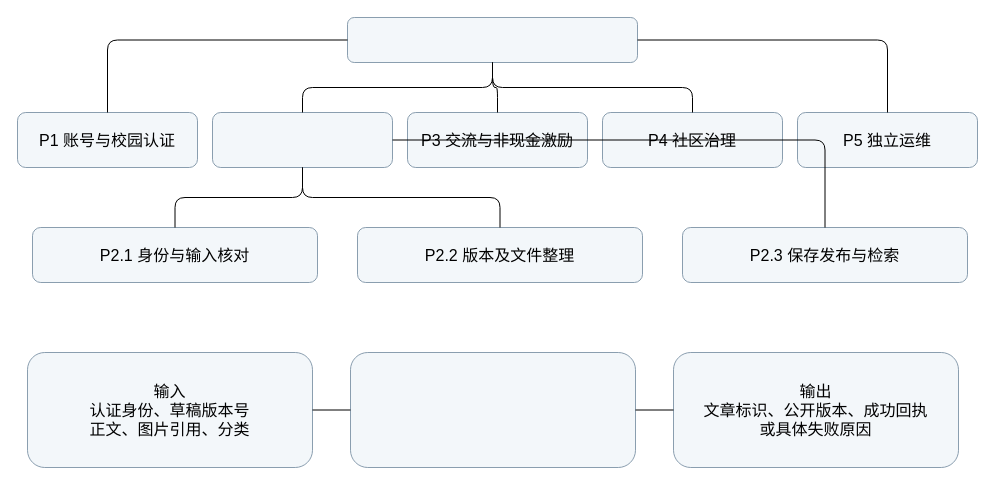
The diagram is 995 pixels wide and 485 high, and some of its shapes have lost their labels. Each missing label, with the box of its shape:
P2 经验发布与检索: (212, 112, 392, 168)
城院帮经验社区: (346, 16, 638, 62)
处理 核对权限与版本、检查资料及文件 保存并切换公开版本: (350, 352, 636, 468)
